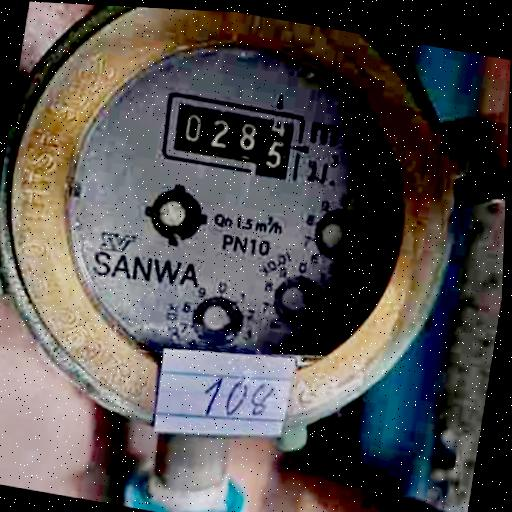0: (171, 102, 211, 156)
2: (202, 107, 239, 161)
5: (255, 117, 297, 180)
8: (230, 113, 266, 165)
border_water_meter_number: (158, 90, 307, 182)
